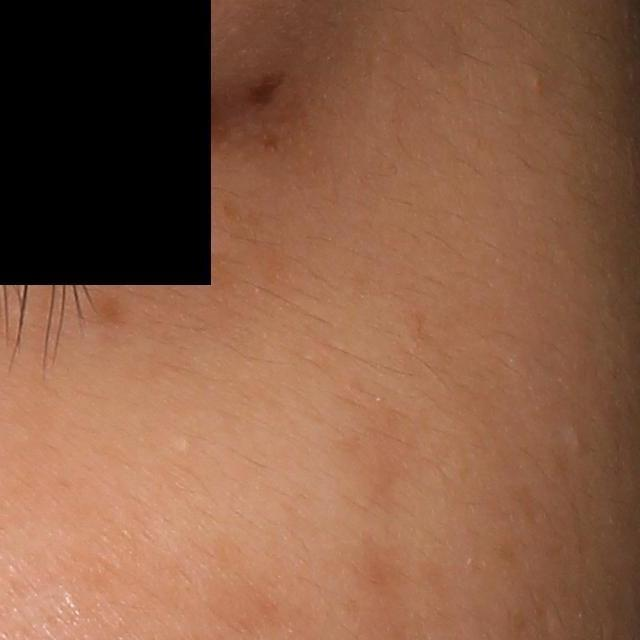atrophic_scar: (244, 70, 291, 107)
comedo: (526, 71, 544, 92), (175, 436, 193, 453), (571, 435, 585, 452)
melasma: (82, 292, 136, 334)
